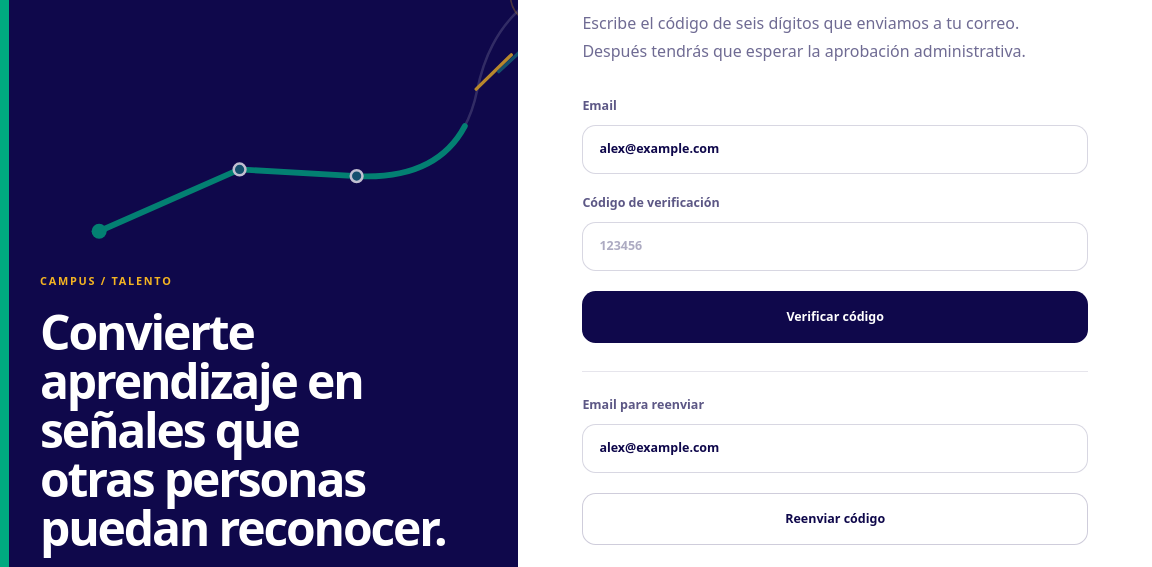
student academic profile forms › shows a generic resend error when the client rejects with a non-Error value
(page scrolled)
Click the button "Reenviar código": point(835, 519) [582,493,1088,545]
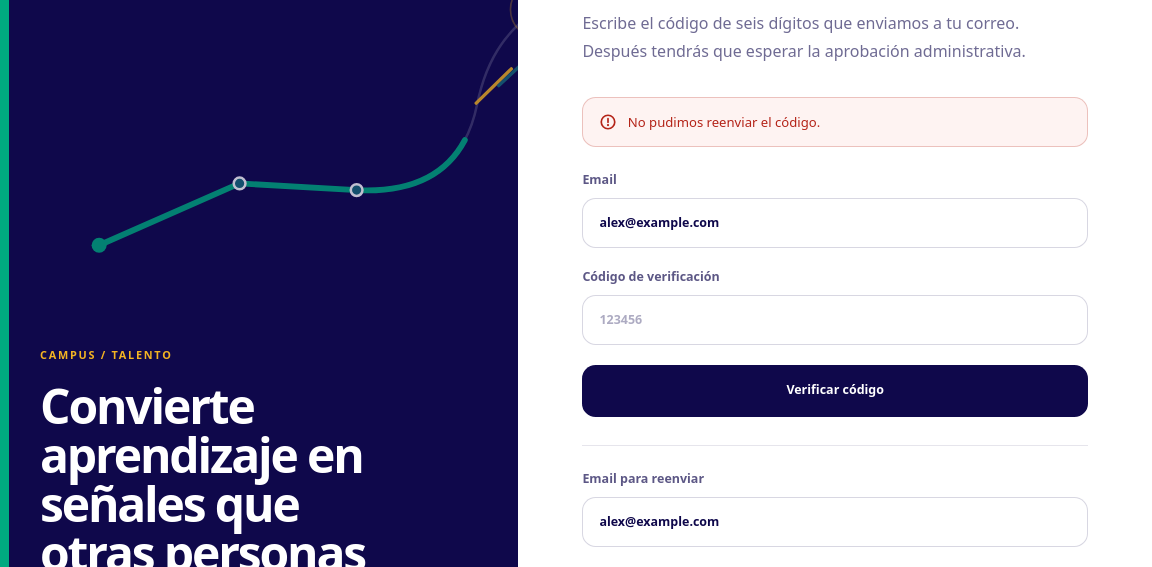
Expected: the message reads "No pudimos reenviar el código.", [628,113,820,131]
